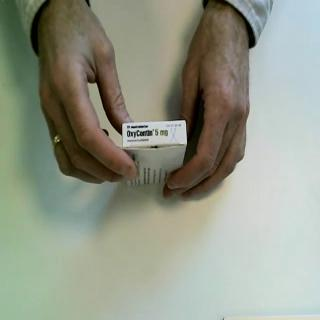oxycontin5mg: (122, 119, 190, 191)
